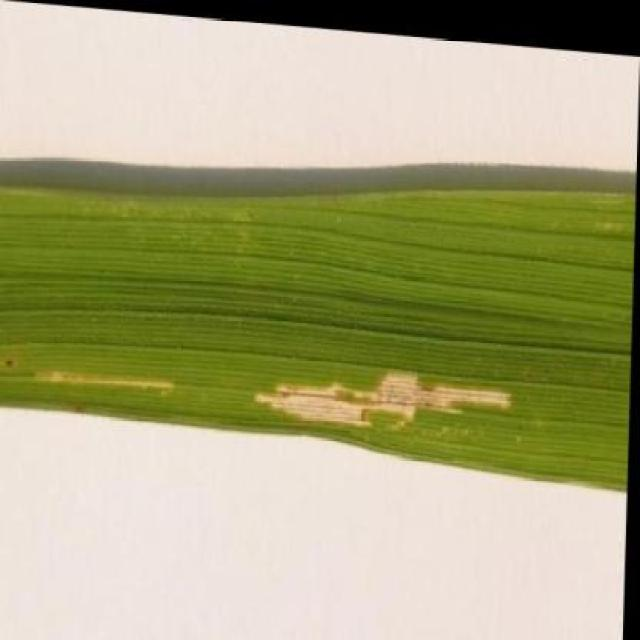Brown_Spot: (1, 110, 634, 490)
